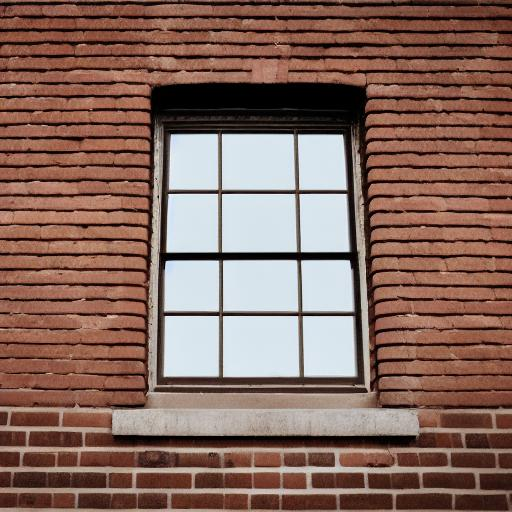Window: (109, 79, 425, 445)
